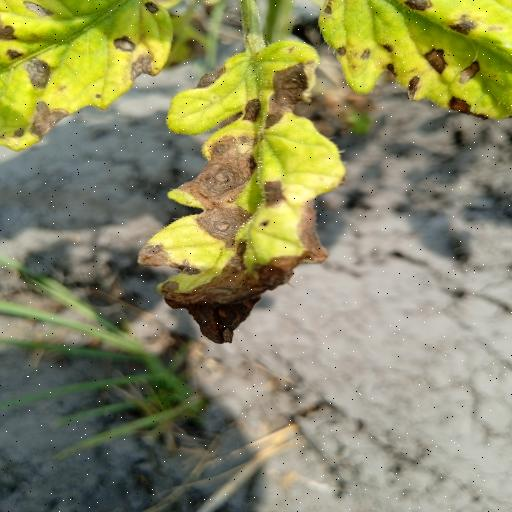Tomato_Brown_Spots: (132, 33, 350, 345)
